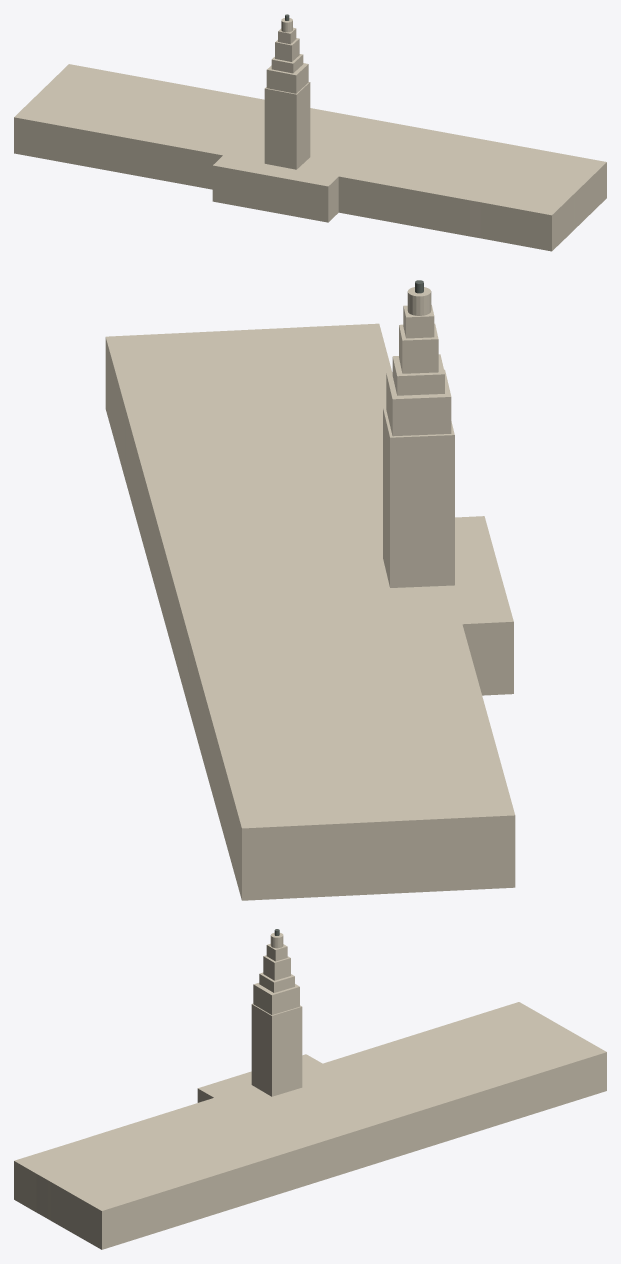
File: ferry-building_lod1.glb
3 views of the same model, one above another, from view 1: azimuth 30°, elevation 25°; view 2: azimuth 150°, elevation 25°; view 3: azimuth 270°, elevation 25° (orthographic). The views are drawn at different scales.
Parts seen in each view (by area): view 1: ferry-building_lod1_stone; view 2: ferry-building_lod1_stone; view 3: ferry-building_lod1_stone.
Part boxes in pixels (box(x1,y1,x2,y2)): ferry-building_lod1_stone: box(14, 18, 606, 251); ferry-building_lod1_stone: box(105, 287, 515, 900); ferry-building_lod1_stone: box(14, 932, 606, 1249).
Size of the model in its own units: 158 by 68.7 by 189.
